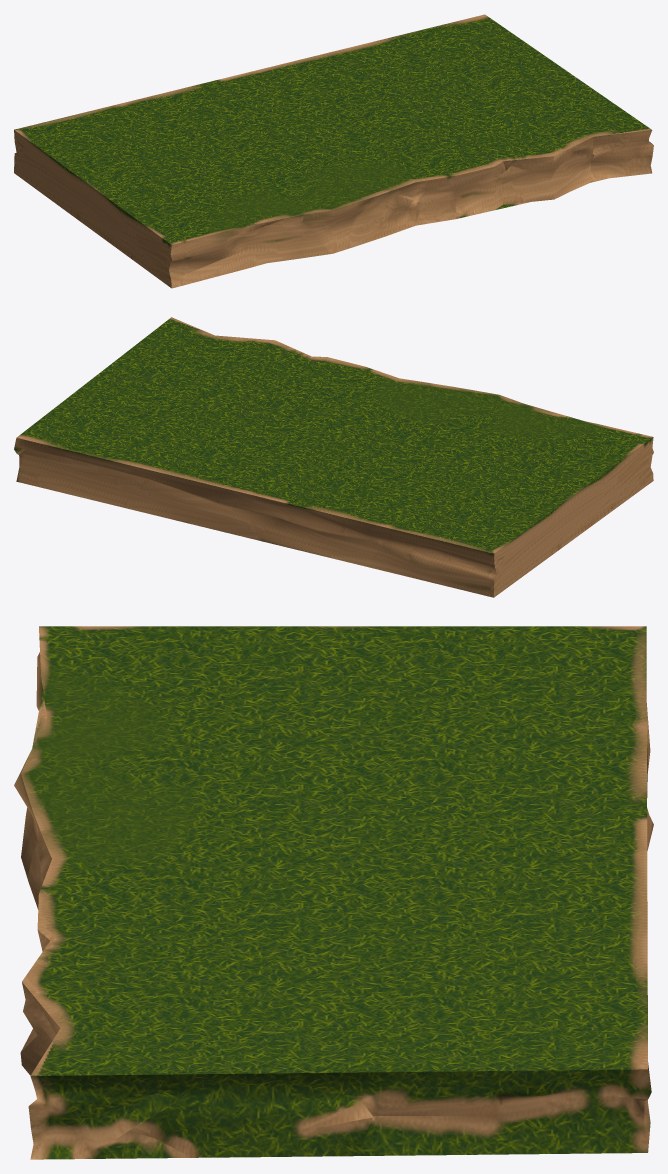
File: Knight-envi-ground1.fbx
3 views of the same model, one above another, from view 1: azimuth 30°, elevation 25°; view 2: azimuth 150°, elevation 25°; view 3: azimuth 270°, elevation 25° (orthographic). The views are drawn at different scales.
Visible parts, largest first — view 1: polySurface232; view 2: polySurface232; view 3: polySurface232.
Part boxes in pixels (box(x1,y1,x2,y2)): polySurface232: box(14, 14, 653, 288); polySurface232: box(14, 317, 653, 597); polySurface232: box(14, 626, 653, 1159).
Size of the model in its own units: 76.02 by 6.56 by 45.54.
Materials: 1 (1 with a texture image).
